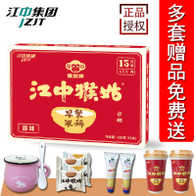box: (10, 42, 150, 147)
cup: (170, 149, 194, 193), (144, 150, 167, 193)
